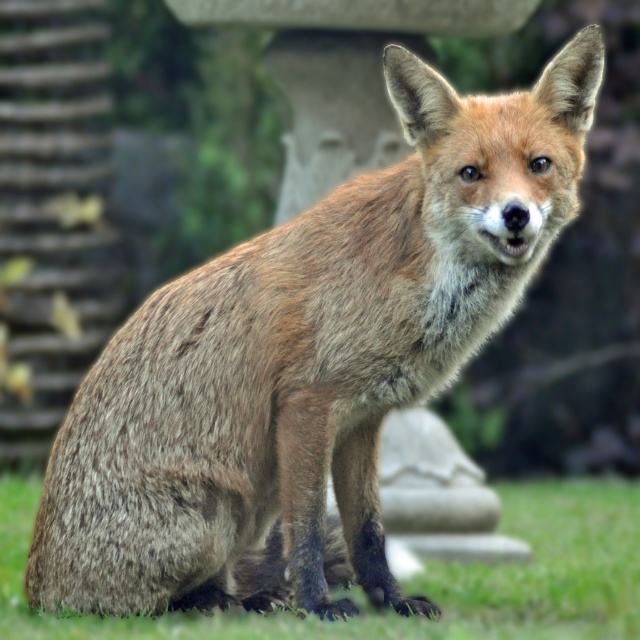Fox: (23, 23, 606, 623)
